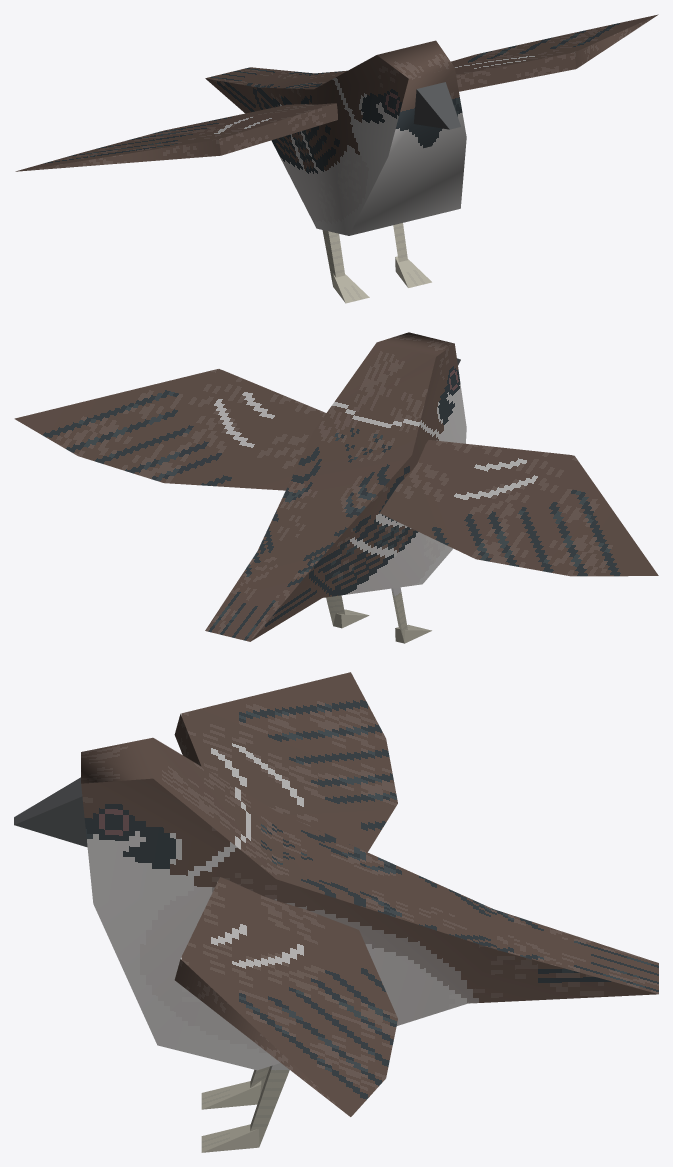
The model's file is 01f2_Sparrow.glb.
3 views of the same model, one above another, from view 1: azimuth 30°, elevation 25°; view 2: azimuth 150°, elevation 25°; view 3: azimuth 270°, elevation 25° (orthographic). The views are drawn at different scales.
Visible parts, largest first — view 1: part_0; view 2: part_0; view 3: part_0.
Boxes of the visible parts, x1,y1,x2,y2 form: part_0: (15, 14, 658, 303); part_0: (14, 332, 658, 643); part_0: (14, 672, 658, 1152).
Bounding box in the file's own units: 0.2295 × 0.0877 × 0.1405.
Materials: 1 (1 with a texture image).
